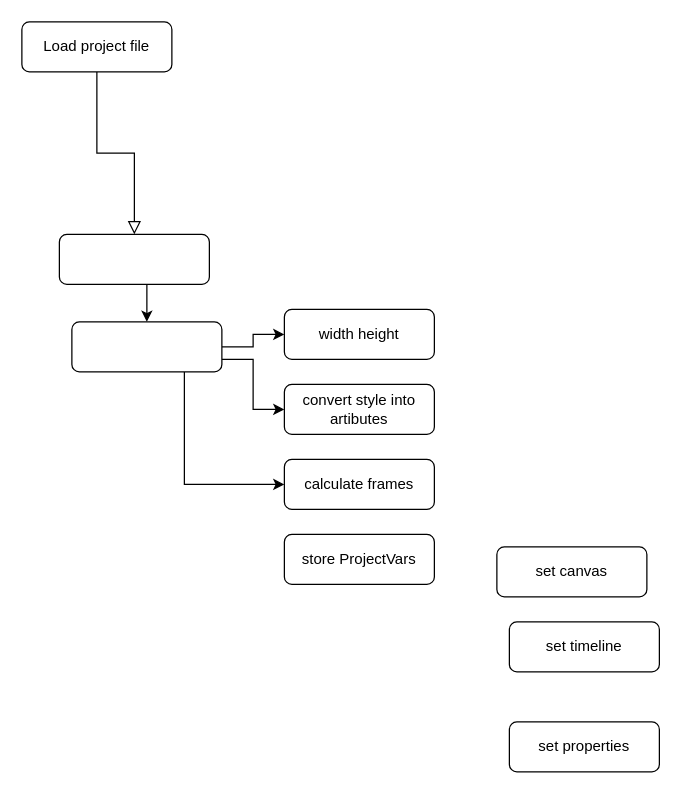
Image size: 681x794. Some labels were removed from this diagram. The box of each missing label's shape, as (x1, y1, x2, y2) in pixels:
check project json: (58, 233, 209, 284)
update keyframe files (width/height): (71, 321, 222, 372)
